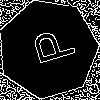P: (23, 24, 77, 69)
